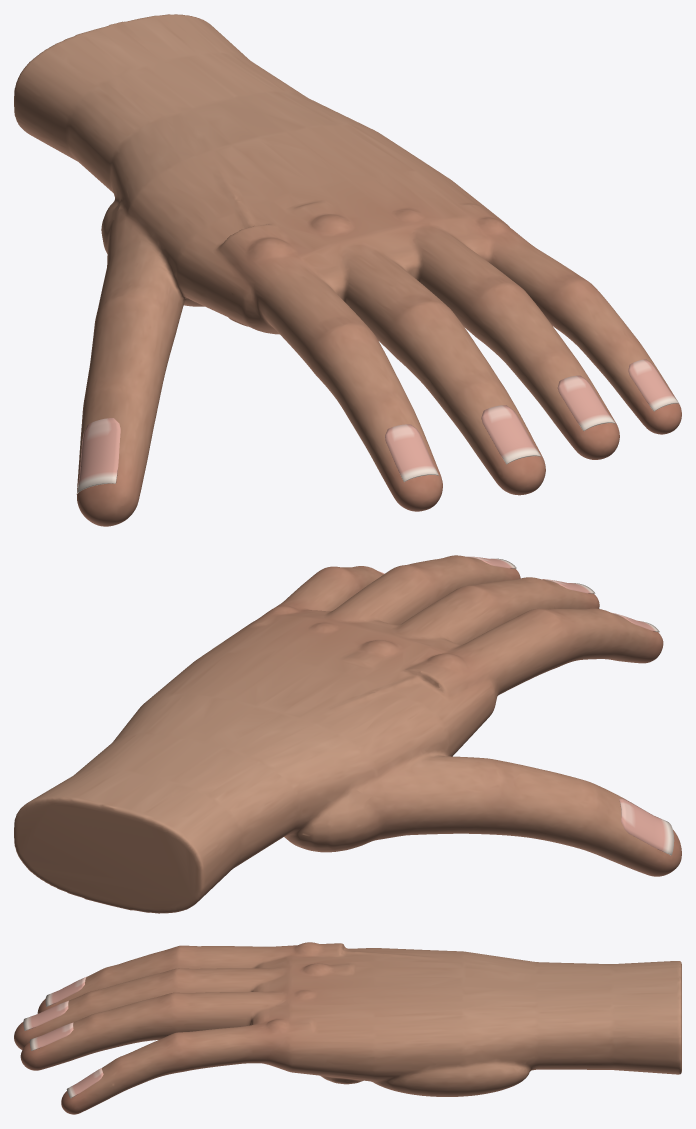
Rendered from SimulatedHand_L.glb.
The picture shows the model from 3 angles, top to bottom: view 1: azimuth 30°, elevation 25°; view 2: azimuth 150°, elevation 25°; view 3: azimuth 270°, elevation 25°; orthographic projection. The views are drawn at different scales.
Parts seen in each view (by area): view 1: Hand_Skin, Hand_Nails; view 2: Hand_Skin, Hand_Nails; view 3: Hand_Skin, Hand_Nails.
Boxes of the visible parts, x1,y1,x2,y2 form: Hand_Skin: (14, 14, 681, 526); Hand_Nails: (77, 359, 678, 493); Hand_Skin: (14, 555, 681, 913); Hand_Nails: (378, 556, 674, 855); Hand_Skin: (14, 942, 681, 1114); Hand_Nails: (23, 976, 103, 1098).
Size of the model in its own units: 0.137 by 0.0601 by 0.2388.
